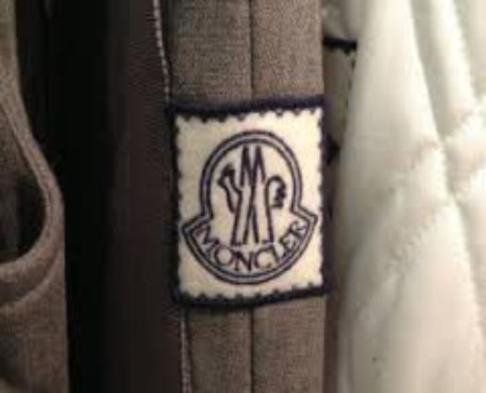MONCLER: (216, 144, 286, 246)
